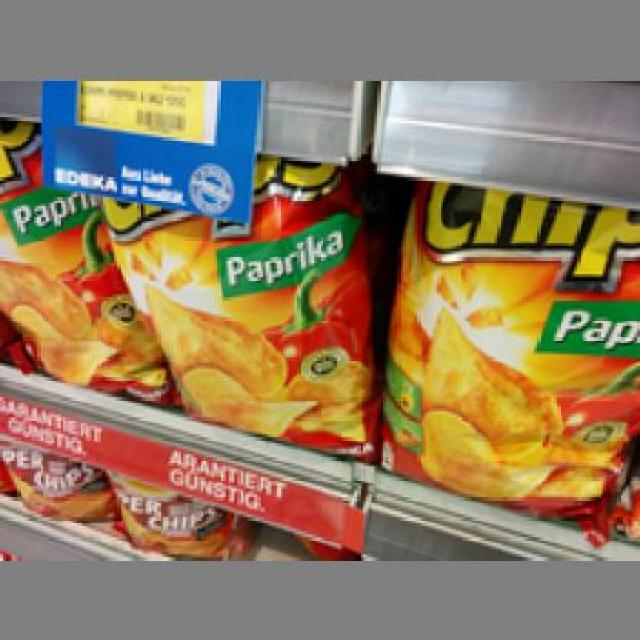Chips: (380, 174, 637, 532), (94, 142, 374, 452)
